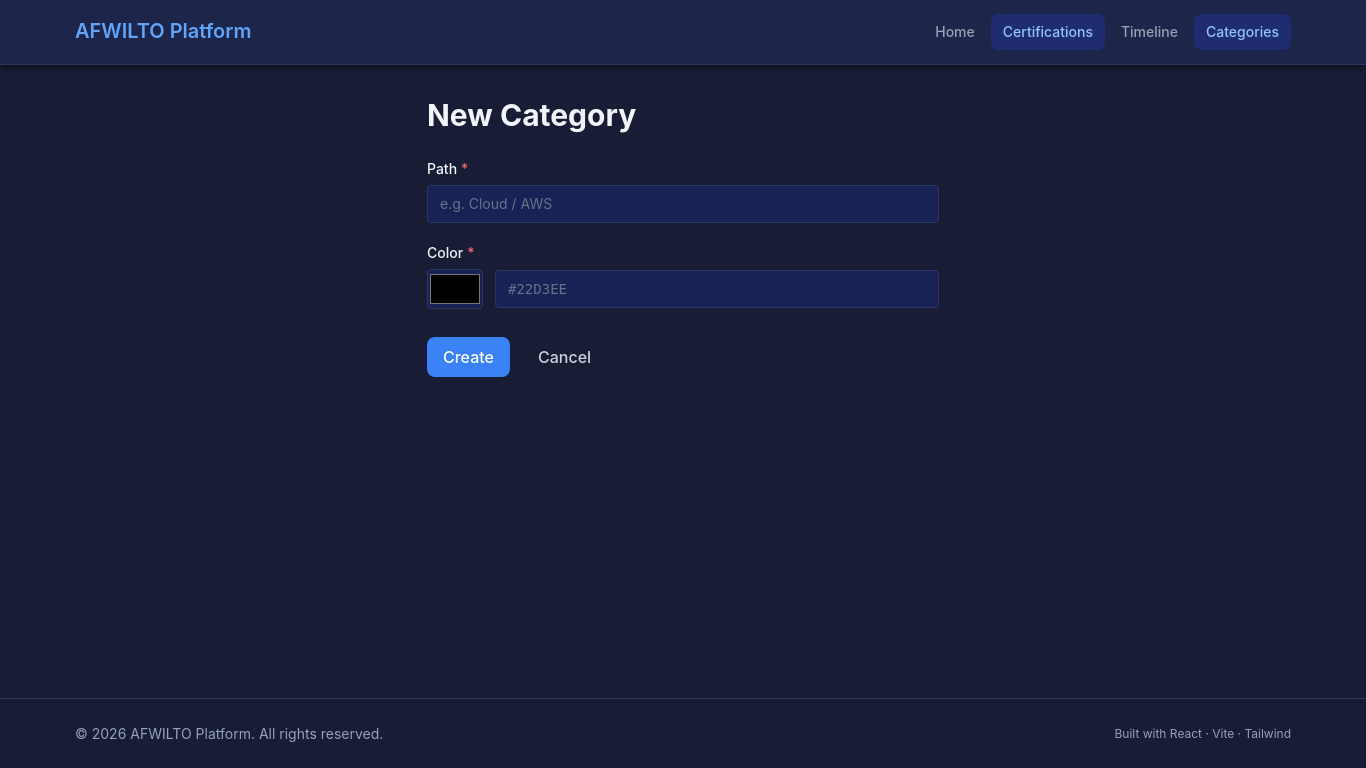
Test case: CategoryFormPage › AC-4: a too-short hex (#ABC) is blocked client-side
The width and height of the screenshot is (1366, 768).
In the field labelled "Path*": (683, 204) left=427, top=184, right=939, bottom=222, type "Cloud / AWS"
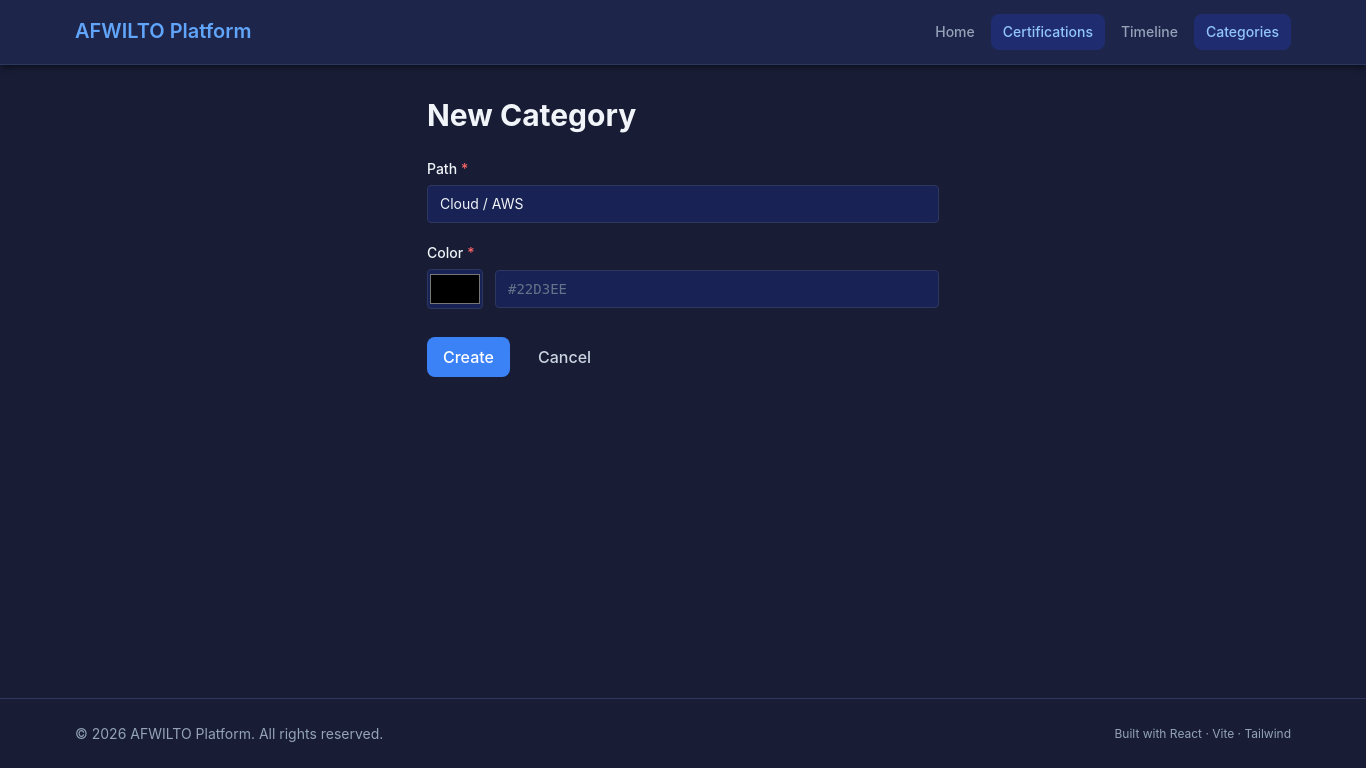
In the field labelled "Color": (717, 288) left=495, top=270, right=939, bottom=308, type "#ABC"
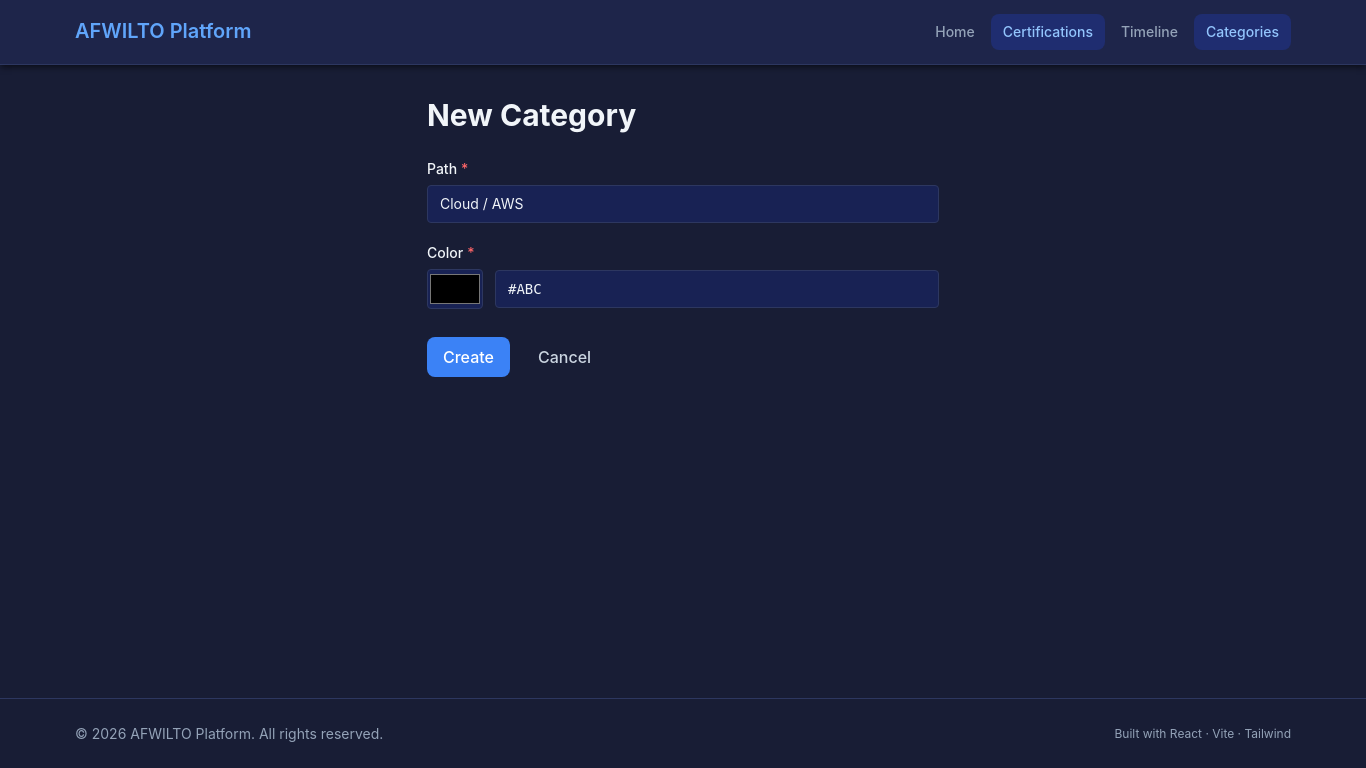
Click the button "Create": (468, 356) left=427, top=336, right=510, bottom=376
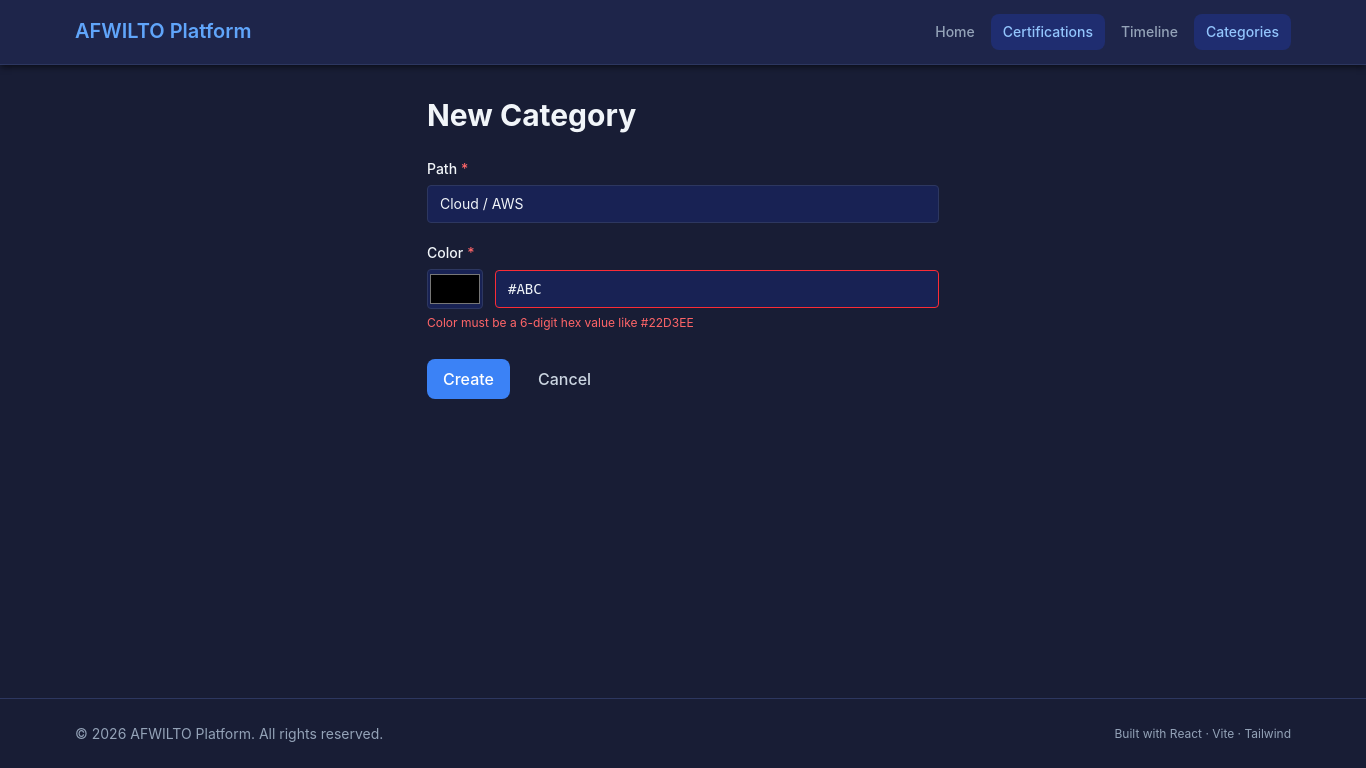
Expected: the text "Color must be a 6-digit hex value like #22D3EE" is shown, left=427, top=314, right=694, bottom=330
